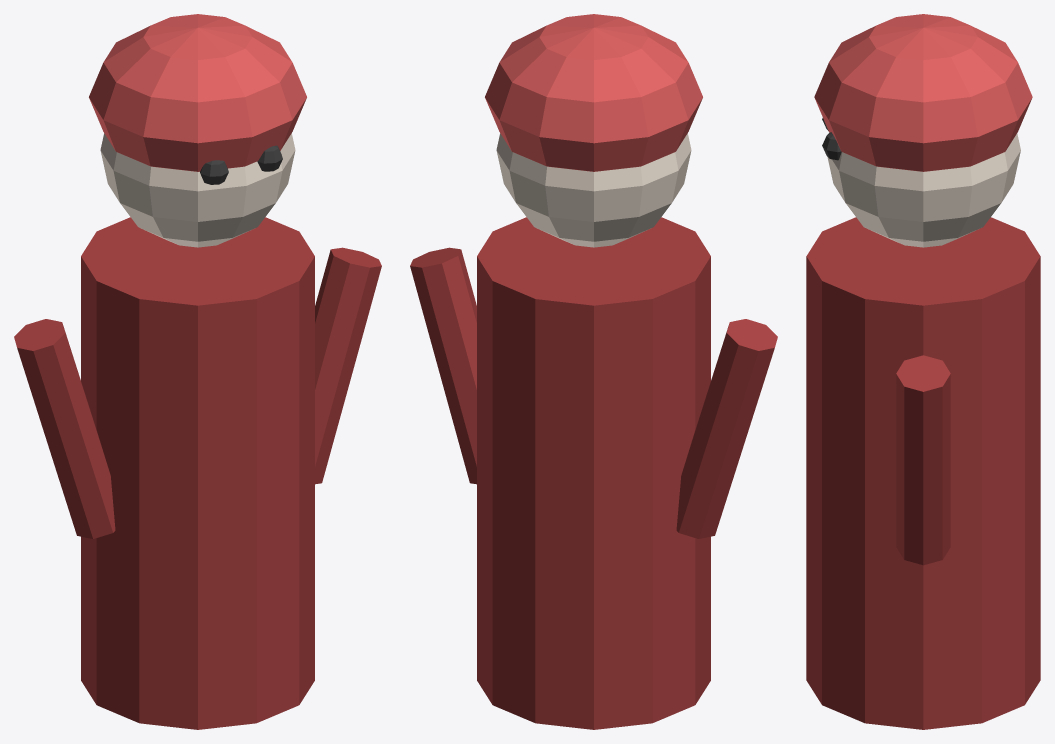
Rendered from hero_liszt.glb.
3 renders of one model, left to right at view 1: azimuth 30°, elevation 25°; view 2: azimuth 150°, elevation 25°; view 3: azimuth 270°, elevation 25°, orthographic.
Parts seen in each view (by area): view 1: hero_liszt_Body, hero_liszt_Wig, hero_liszt_Head, hero_liszt_Arm, hero_liszt_Arm.001; view 2: hero_liszt_Body, hero_liszt_Wig, hero_liszt_Head, hero_liszt_Arm, hero_liszt_Arm.001; view 3: hero_liszt_Body, hero_liszt_Wig, hero_liszt_Head, hero_liszt_Arm.001.
Boxes of the visible parts, x1,y1,x2,y2 form: hero_liszt_Body: (81, 217, 314, 729); hero_liszt_Wig: (89, 14, 306, 171); hero_liszt_Head: (100, 133, 295, 247); hero_liszt_Arm: (14, 319, 115, 538); hero_liszt_Arm.001: (315, 247, 381, 484); hero_liszt_Body: (477, 217, 710, 729); hero_liszt_Wig: (485, 14, 702, 171); hero_liszt_Head: (496, 133, 691, 247); hero_liszt_Arm: (676, 319, 777, 538); hero_liszt_Arm.001: (410, 247, 476, 484); hero_liszt_Body: (806, 217, 1040, 729); hero_liszt_Wig: (814, 14, 1032, 171); hero_liszt_Head: (827, 133, 1020, 247); hero_liszt_Arm.001: (896, 355, 950, 565).
Size of the model in its own units: 1.07 by 1.85 by 0.6.
